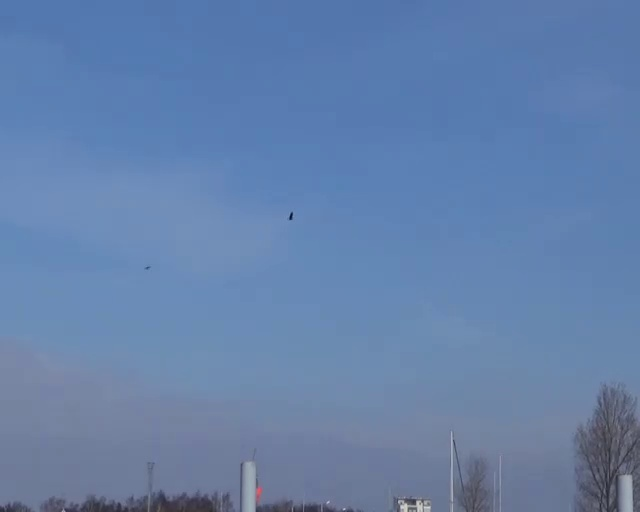BIRD: (288, 211, 294, 220)
